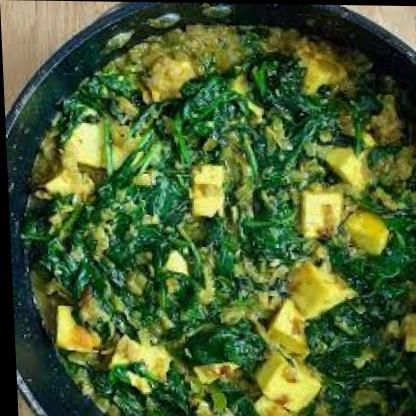palak_paneer: (14, 22, 416, 416)
